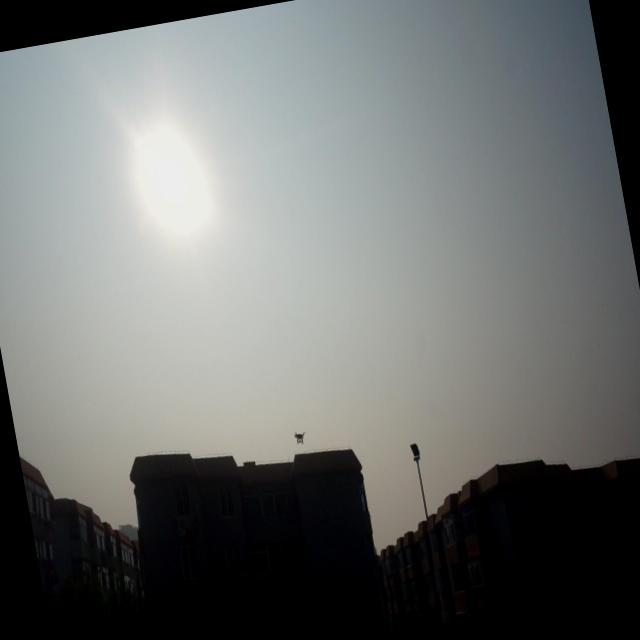drone: (290, 427, 308, 448)
